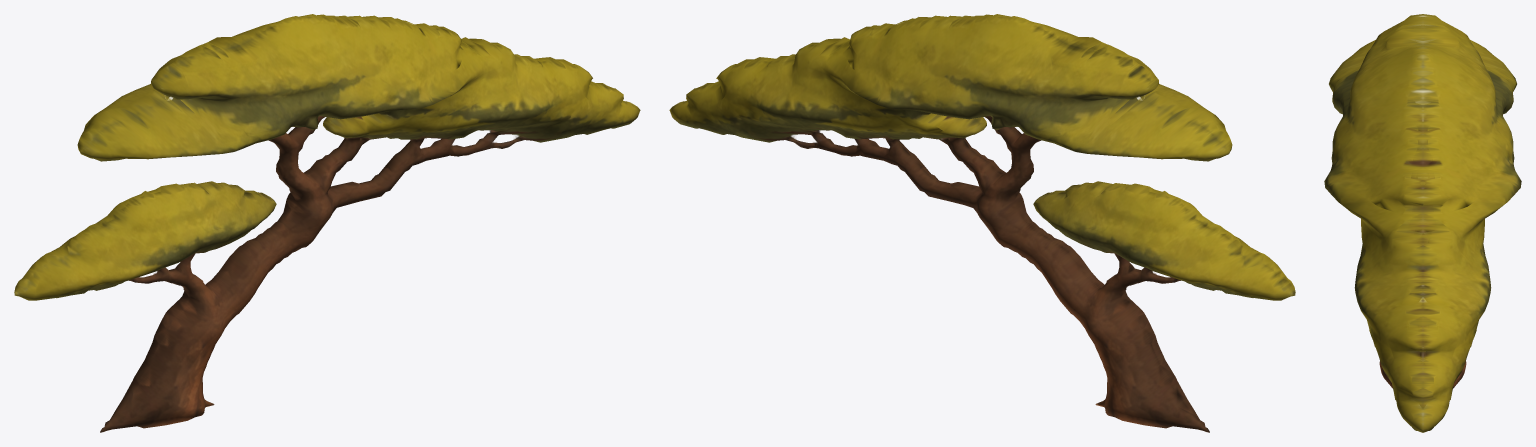
Rendered from 25_trees_d_r00_c01.glb.
The picture shows the model from 3 angles, left to right: view 1: azimuth 30°, elevation 25°; view 2: azimuth 150°, elevation 25°; view 3: azimuth 270°, elevation 25°; orthographic projection. The views are drawn at different scales.
Visible parts, largest first — view 1: 25_trees_d_r00_c01; view 2: 25_trees_d_r00_c01; view 3: 25_trees_d_r00_c01.
Boxes of the visible parts, bbox=[...] form: 25_trees_d_r00_c01: bbox=[14, 14, 640, 432]; 25_trees_d_r00_c01: bbox=[669, 14, 1295, 432]; 25_trees_d_r00_c01: bbox=[1324, 14, 1521, 432].
Size of the model in its own units: 6.55 by 3.7 by 1.65.
1 material, 1 textured.
